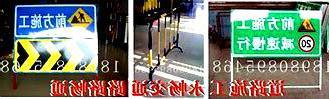sign: (12, 5, 97, 71), (231, 9, 322, 57)
